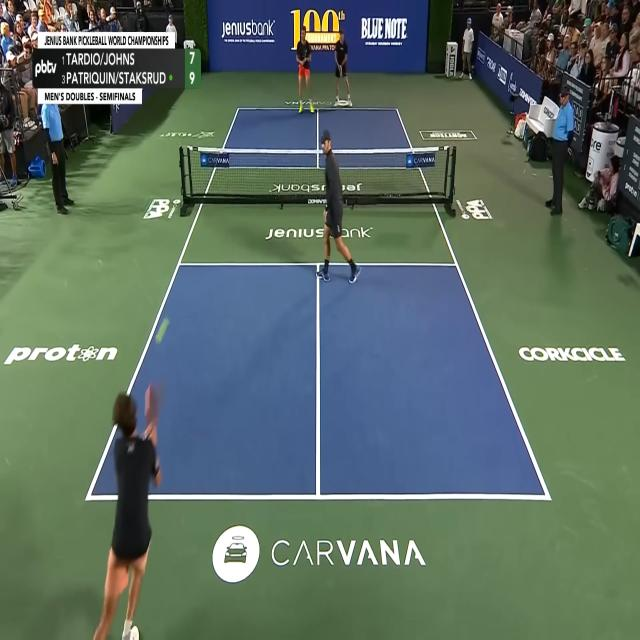ball: (155, 316, 170, 344)
